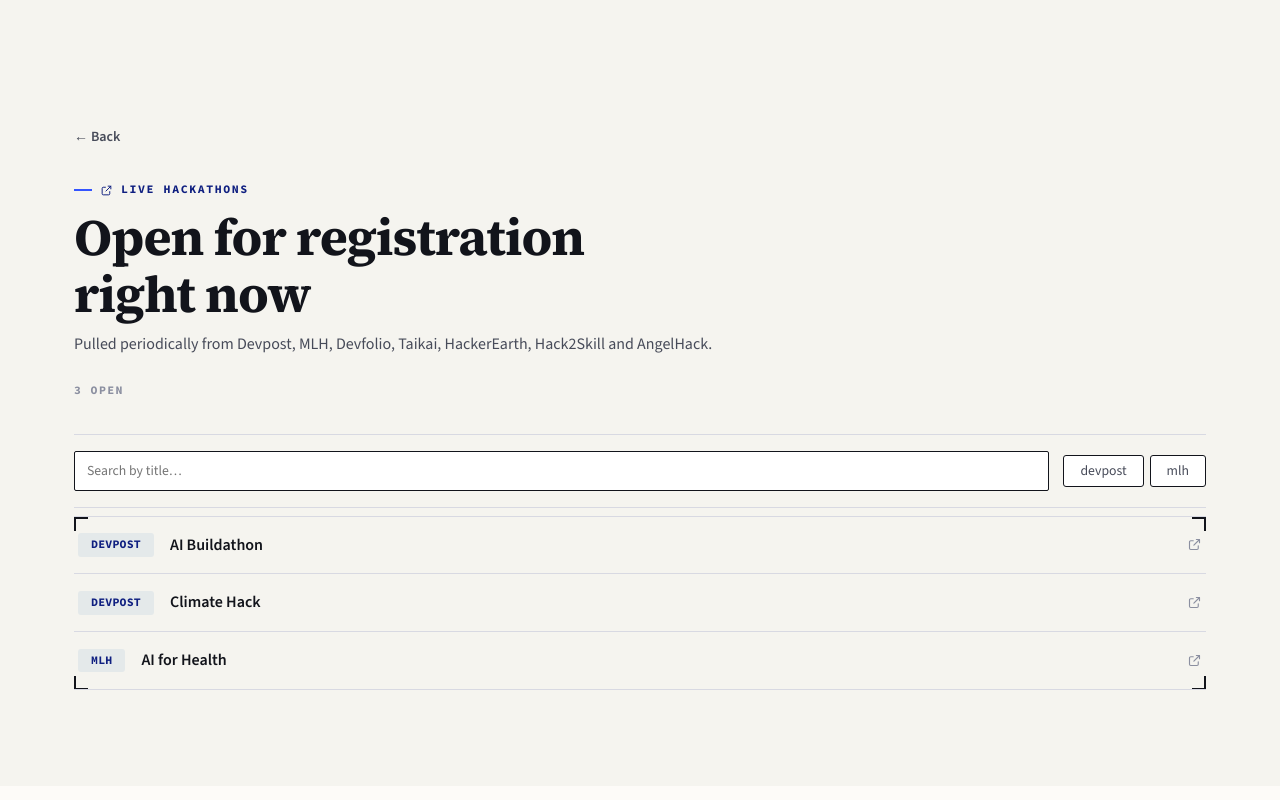
Test case: LiveHackathons page — search and platform filter › shows a filtered-empty state (not the generic one) when nothing matches, with its own Clear filters
Expected: the text "AI Buildathon" is shown, [170, 534, 263, 555]
In the search field named "search live hackathons": (562, 471) [74, 451, 1049, 491], type "nonexistent-topic"
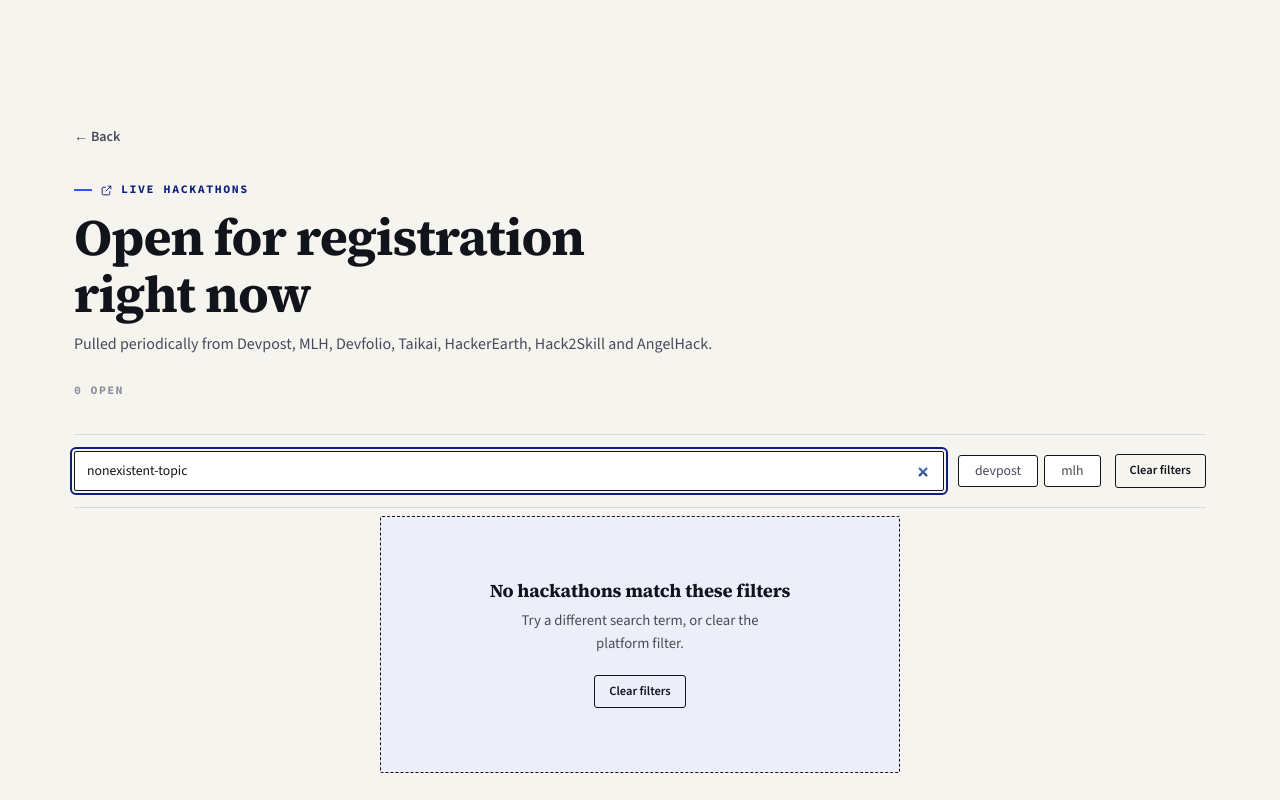
Expected: the heading "No hackathons match these filters" is shown, [490, 578, 790, 603]
Click the 1st button "Clear filters": (1160, 471) [1114, 454, 1206, 488]
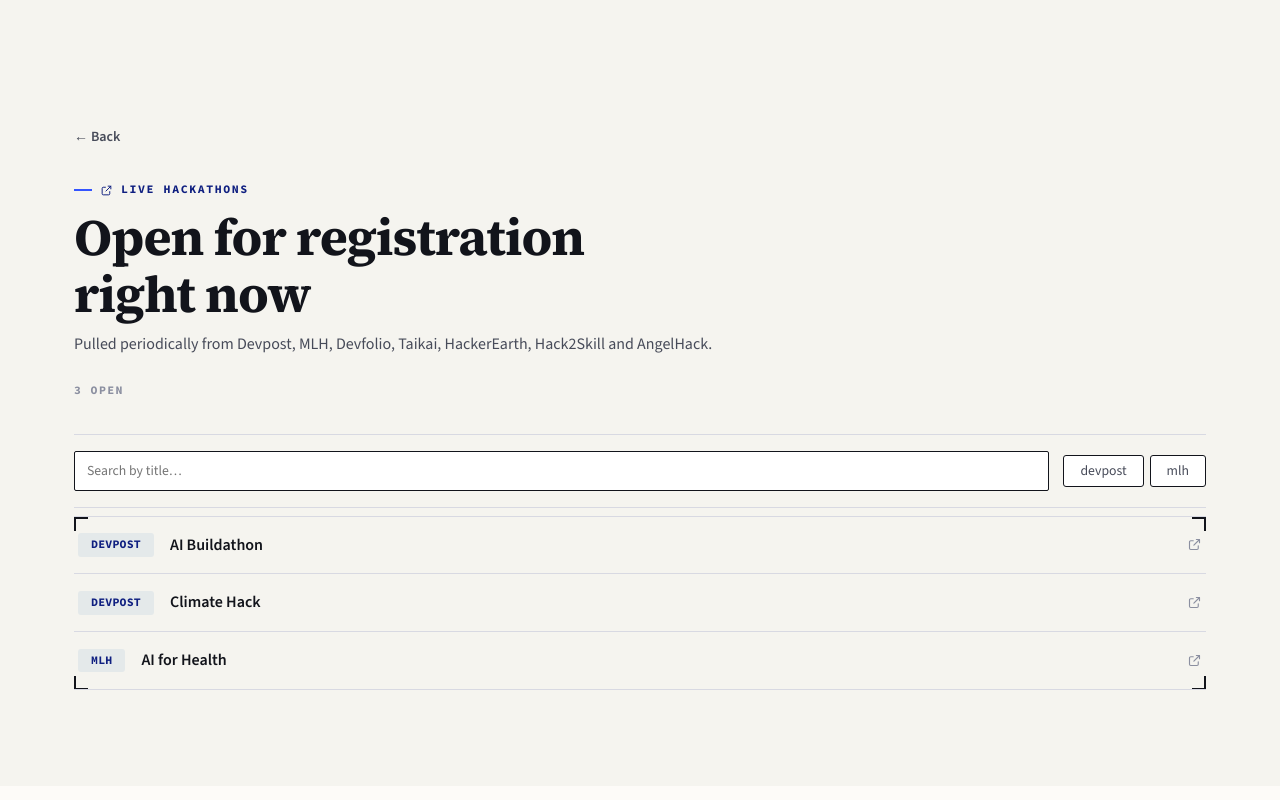
Expected: the text "AI Buildathon" is shown, [170, 534, 263, 555]
